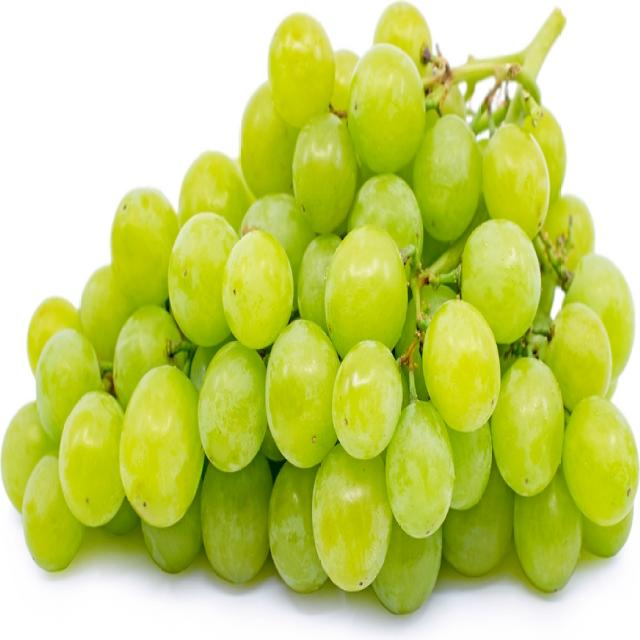grape: (2, 11, 638, 608)
